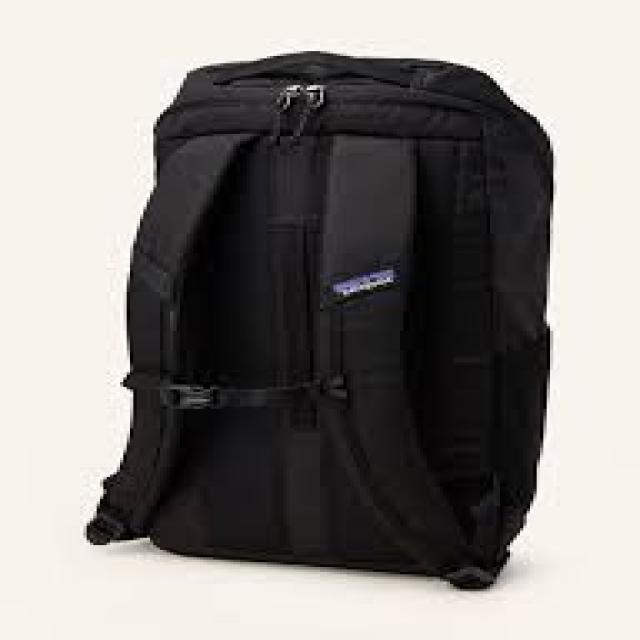backpack: (85, 50, 555, 590)
